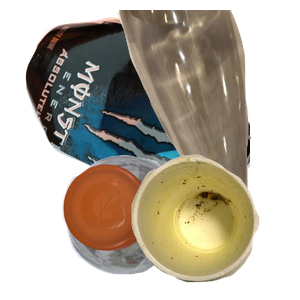glass: (115, 10, 300, 190)
metal: (23, 15, 263, 195)
plastic: (60, 152, 237, 300)
trash: (129, 152, 300, 300)
